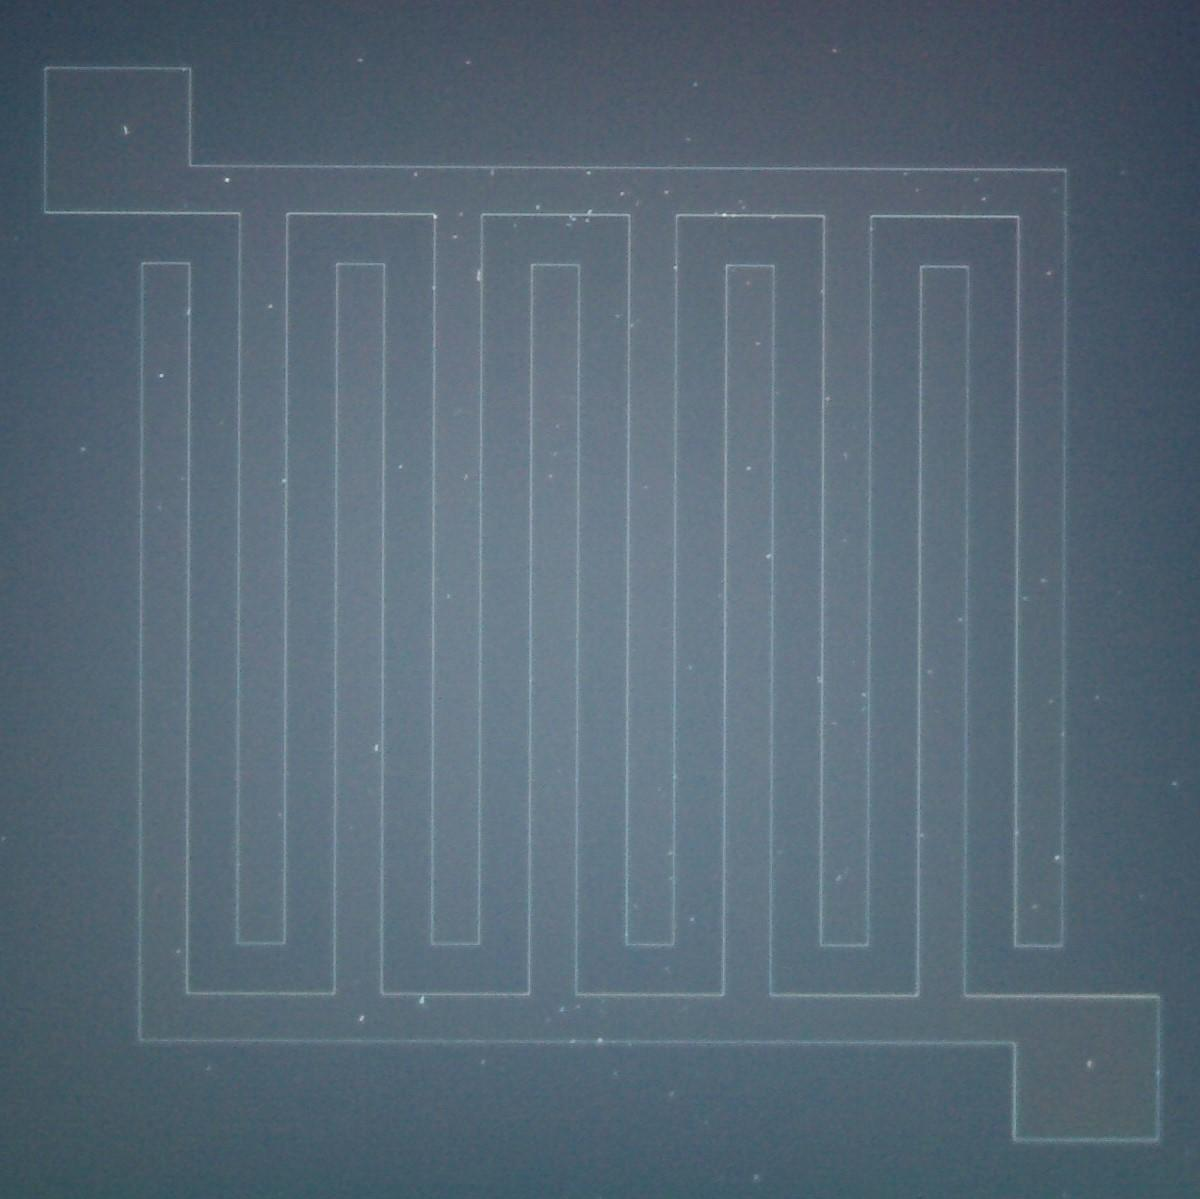B_point: (113, 119, 136, 142), (467, 264, 486, 288), (217, 170, 237, 193), (563, 209, 580, 223)
s_point: (962, 166, 992, 192), (820, 37, 850, 64), (194, 1056, 224, 1082), (1012, 586, 1039, 614), (258, 293, 282, 320), (972, 188, 998, 212), (894, 160, 918, 186), (167, 939, 190, 965), (905, 180, 931, 203), (921, 660, 944, 686), (825, 708, 846, 736), (808, 665, 829, 694), (438, 584, 461, 609), (1040, 179, 1063, 204), (950, 607, 973, 632), (853, 699, 876, 725), (71, 438, 98, 460), (676, 128, 700, 152), (1034, 569, 1056, 594), (456, 52, 480, 74), (1039, 261, 1061, 285), (1130, 884, 1152, 908), (350, 49, 372, 72), (363, 736, 386, 758), (1112, 161, 1134, 184), (1087, 686, 1109, 709), (1079, 1053, 1100, 1077), (412, 990, 433, 1013), (212, 411, 231, 436), (745, 1167, 767, 1188), (684, 75, 707, 94), (352, 1007, 372, 1030), (545, 444, 565, 464), (1041, 691, 1061, 713), (391, 457, 411, 478), (591, 1030, 610, 1051), (655, 182, 677, 201), (541, 466, 560, 488), (683, 908, 702, 930), (457, 468, 475, 489), (473, 1053, 494, 1072), (661, 843, 680, 864), (657, 961, 678, 978), (661, 1085, 683, 1102), (579, 164, 598, 182), (760, 547, 778, 567), (152, 367, 172, 384), (605, 1065, 626, 1083), (628, 898, 646, 918), (276, 472, 293, 491), (637, 479, 655, 496), (1027, 898, 1044, 917), (569, 999, 587, 1017), (630, 193, 648, 212), (682, 660, 699, 677), (715, 206, 733, 223), (447, 227, 463, 245), (452, 205, 470, 222), (614, 186, 631, 202), (554, 1001, 572, 1018), (837, 533, 854, 549), (1166, 775, 1182, 793), (528, 199, 547, 214), (581, 202, 599, 217), (559, 220, 577, 235), (549, 419, 565, 436), (740, 276, 756, 292), (580, 214, 597, 229), (666, 259, 682, 276), (750, 336, 766, 351), (540, 1011, 556, 1028), (507, 218, 524, 234), (765, 210, 782, 225), (736, 197, 751, 212), (610, 309, 626, 324), (1051, 850, 1066, 865), (625, 317, 639, 333), (742, 461, 756, 475), (408, 167, 422, 182), (840, 449, 853, 464), (822, 392, 834, 408), (485, 167, 498, 181), (832, 871, 845, 885)
